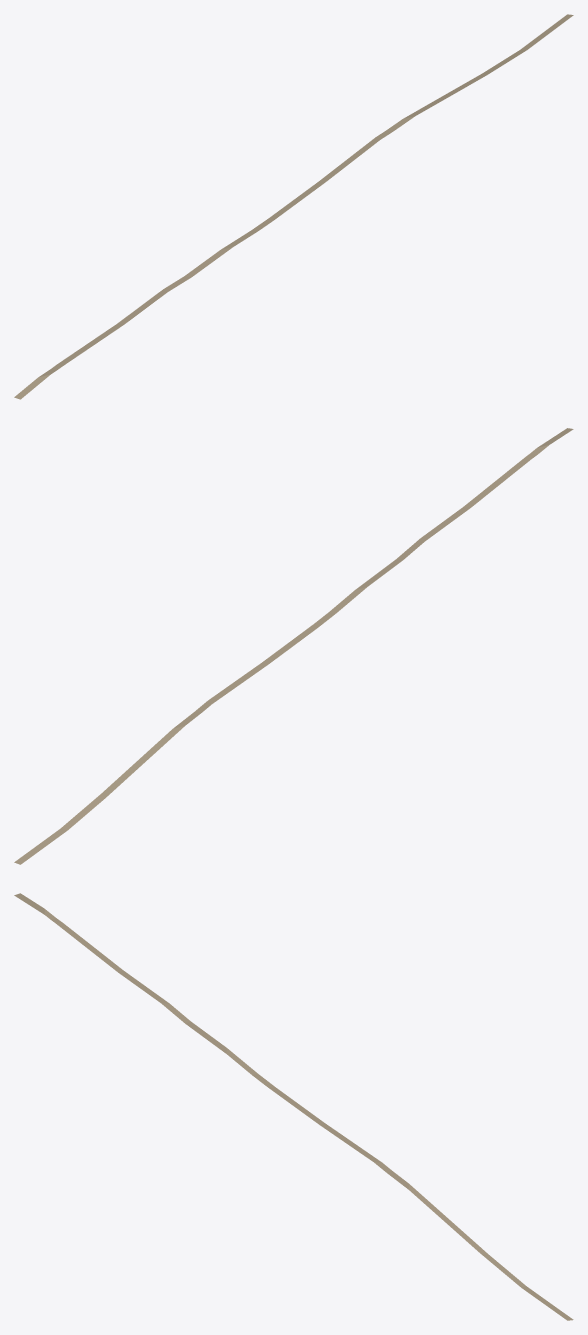
The model's file is farm_-5_-5_track.glb.
The picture shows the model from 3 angles, top to bottom: view 1: azimuth 30°, elevation 25°; view 2: azimuth 210°, elevation 25°; view 3: azimuth 270°, elevation 25°; orthographic projection.
Visible parts, largest first — view 1: geometry_0; view 2: geometry_0; view 3: geometry_0.
Part boxes in pixels (x1,y1,x2,y2): geometry_0: (14, 14, 573, 399); geometry_0: (14, 428, 573, 864); geometry_0: (14, 893, 573, 1320).
Size of the model in its own units: 418 by 13.83 by 246.
